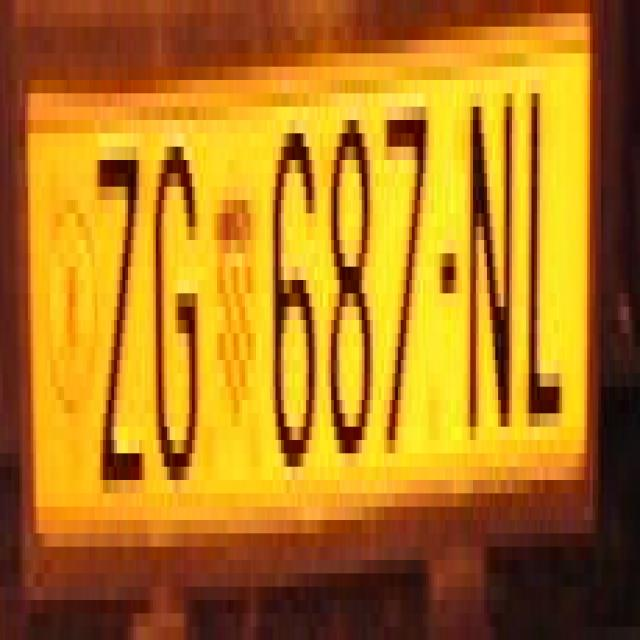6: (267, 94, 320, 494)
7: (379, 94, 434, 454)
8: (328, 94, 378, 494)
G: (148, 120, 203, 520)
L: (523, 54, 565, 454)
N: (464, 93, 514, 440)
Z: (94, 146, 144, 506)
